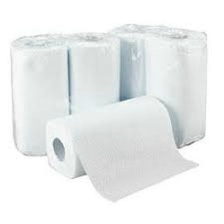tissue: (37, 89, 203, 206), (3, 25, 126, 162), (102, 16, 213, 153)
